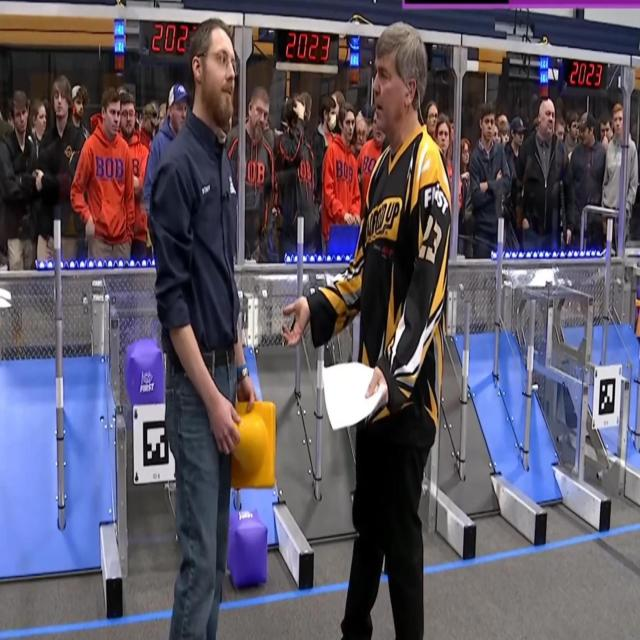frc_cone: (231, 400, 276, 488), (635, 304, 640, 338)
frc_cube: (228, 512, 268, 586), (125, 340, 164, 402), (637, 278, 640, 295)
